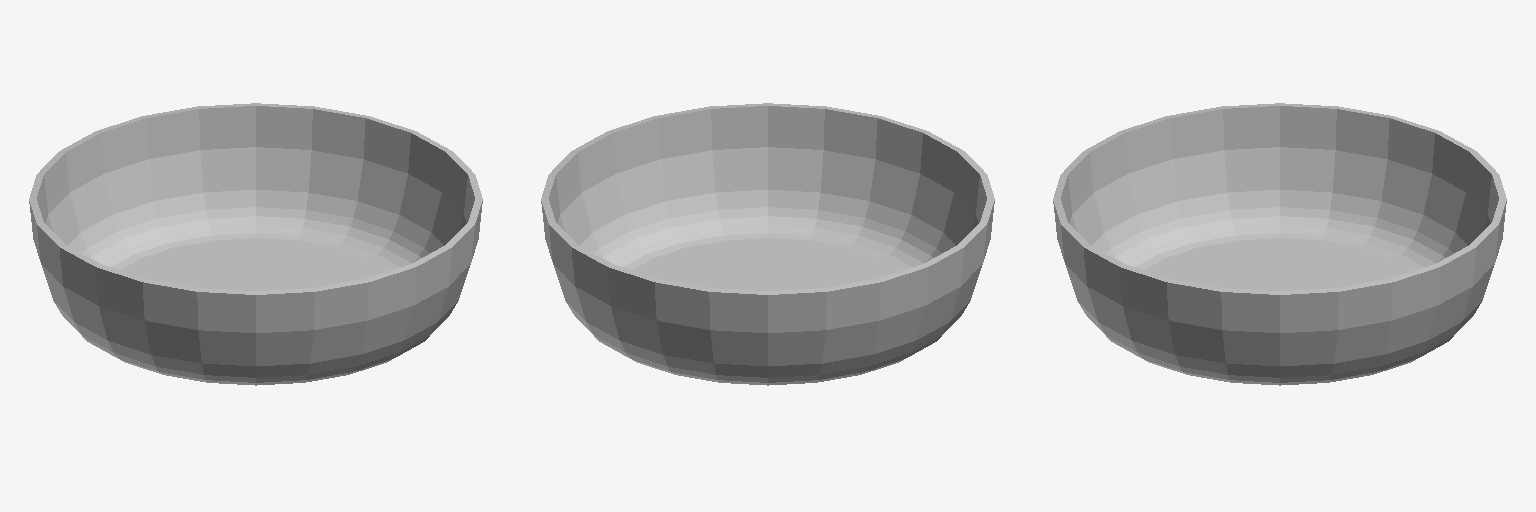
The model's file is Bowl_Style_01.obj.
3 views of the same model, side by side, from view 1: azimuth 30°, elevation 25°; view 2: azimuth 150°, elevation 25°; view 3: azimuth 270°, elevation 25° (orthographic).
Parts seen in each view (by area): view 1: Bowl_Style_01; view 2: Bowl_Style_01; view 3: Bowl_Style_01.
Part boxes in pixels (bbox=[...]): Bowl_Style_01: bbox=[29, 103, 482, 385]; Bowl_Style_01: bbox=[541, 103, 994, 385]; Bowl_Style_01: bbox=[1053, 103, 1506, 385].
Size of the model in its own units: 0.3028 by 0.0846 by 0.3028.